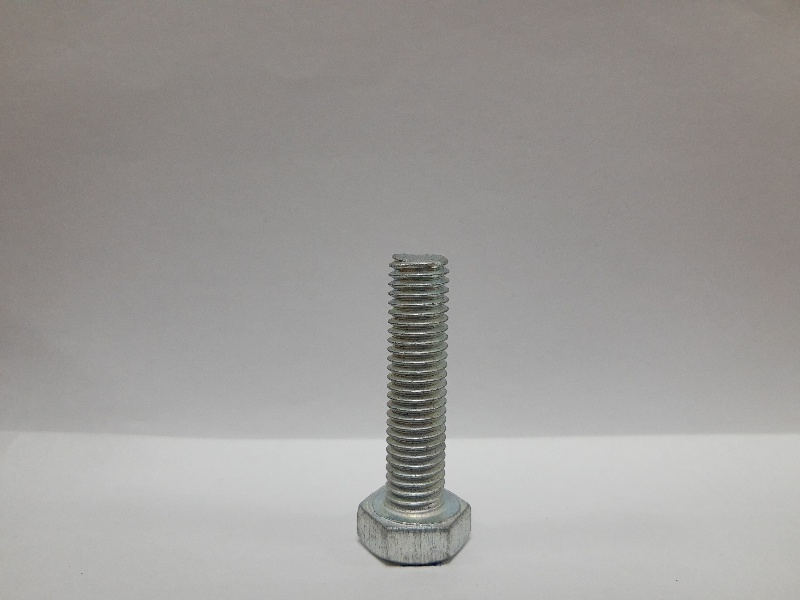pf: (353, 240, 475, 566)
